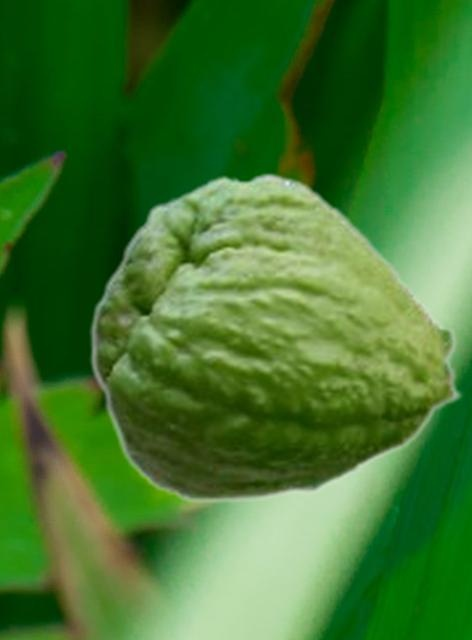sayote: (89, 171, 464, 504)
